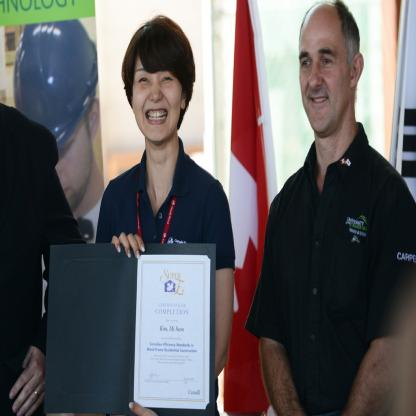Helmet: (8, 21, 96, 138)
